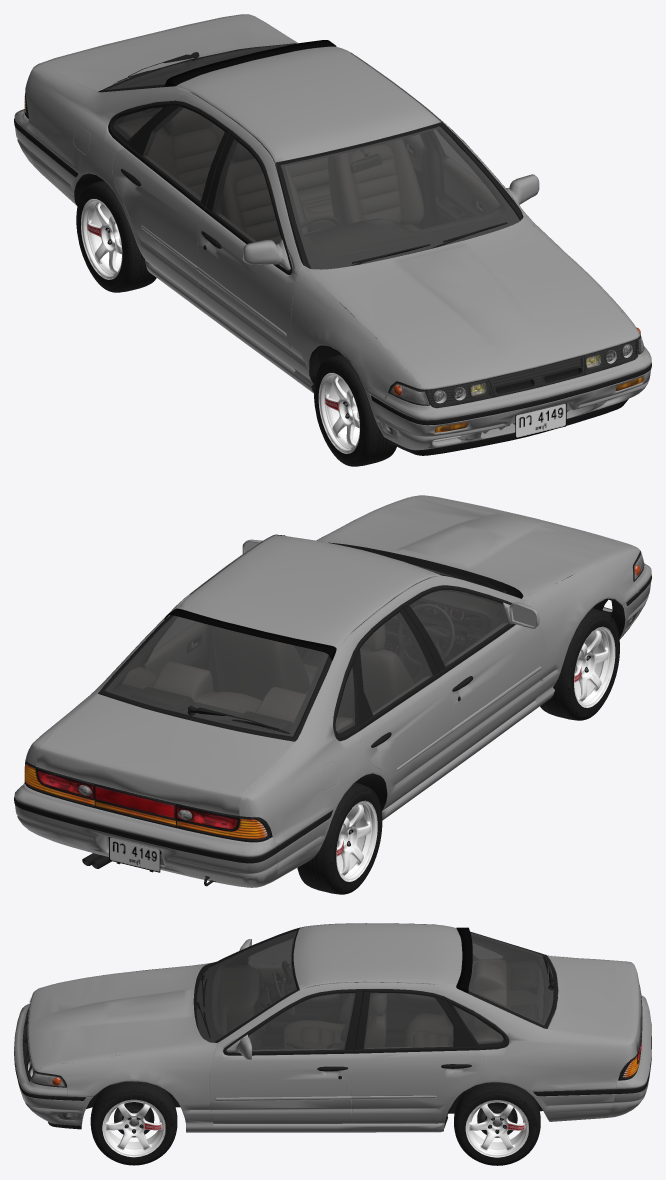
Rendered from nissan-cefiro-a31.glb.
3 renders of one model, top to bottom at view 1: azimuth 30°, elevation 25°; view 2: azimuth 150°, elevation 25°; view 3: azimuth 270°, elevation 25°, orthographic. The views are drawn at different scales.
Parts seen in each view (by area): view 1: body_0, window_rear_0, body_006, interior_h_0, body_001, seat_LOD0_0, misc_002, body_005, body_002, misc_009, Object004_black_0, TIRE_RF_SUB007 (+13 smaller); view 2: body_0, window_rear_0, body_002, body_001, body_006, interior_h_0, body_004, seat_LOD0_0, misc_002, misc_009, TIRE_RF_SUB006, TIRE_RF_SUB007 (+17 smaller); view 3: body_0, window_rear_0, body_001, interior_h_0, body_006, body_002, misc_002, misc_009, TIRE_RF_SUB004, TIRE_RF_SUB005, seat_LOD0_0, body_005 (+16 smaller).
Part boxes in pixels (box(x1,y1,x2,y2)): body_0: box(25, 14, 639, 402); window_rear_0: box(105, 44, 519, 269); body_006: box(311, 217, 638, 389); interior_h_0: box(112, 46, 504, 257); body_001: box(112, 56, 527, 369); seat_LOD0_0: box(220, 139, 424, 244); misc_002: box(26, 43, 622, 398); body_005: box(366, 346, 651, 450); body_002: box(40, 14, 293, 91); misc_009: box(121, 53, 520, 274); Object004_black_0: box(388, 335, 640, 408); TIRE_RF_SUB007: box(314, 354, 396, 466); body_0: box(25, 510, 639, 880); window_rear_0: box(105, 564, 508, 736); body_002: box(36, 694, 294, 815); body_001: box(113, 538, 545, 808); body_006: box(317, 495, 637, 595); interior_h_0: box(112, 573, 508, 798); body_004: box(14, 783, 277, 887); seat_LOD0_0: box(213, 624, 413, 717); misc_002: box(94, 535, 620, 852); misc_009: box(165, 534, 515, 747); TIRE_RF_SUB006: box(297, 782, 382, 894); TIRE_RF_SUB007: box(540, 608, 619, 720); body_0: box(37, 923, 637, 1132); window_rear_0: box(196, 930, 553, 1051); body_001: box(209, 923, 483, 1123); interior_h_0: box(212, 933, 551, 1055); body_006: box(27, 963, 209, 1070); body_002: box(548, 956, 641, 1052); misc_002: box(86, 928, 616, 1127); misc_009: box(219, 923, 478, 1079); TIRE_RF_SUB004: box(90, 1081, 177, 1165); TIRE_RF_SUB005: box(454, 1082, 540, 1165); seat_LOD0_0: box(284, 993, 386, 1048); body_005: box(14, 1004, 92, 1125).
Size of the model in its own units: 0.0486 by 0.0353 by 0.1194.
Materials: 16 (7 with a texture image).
